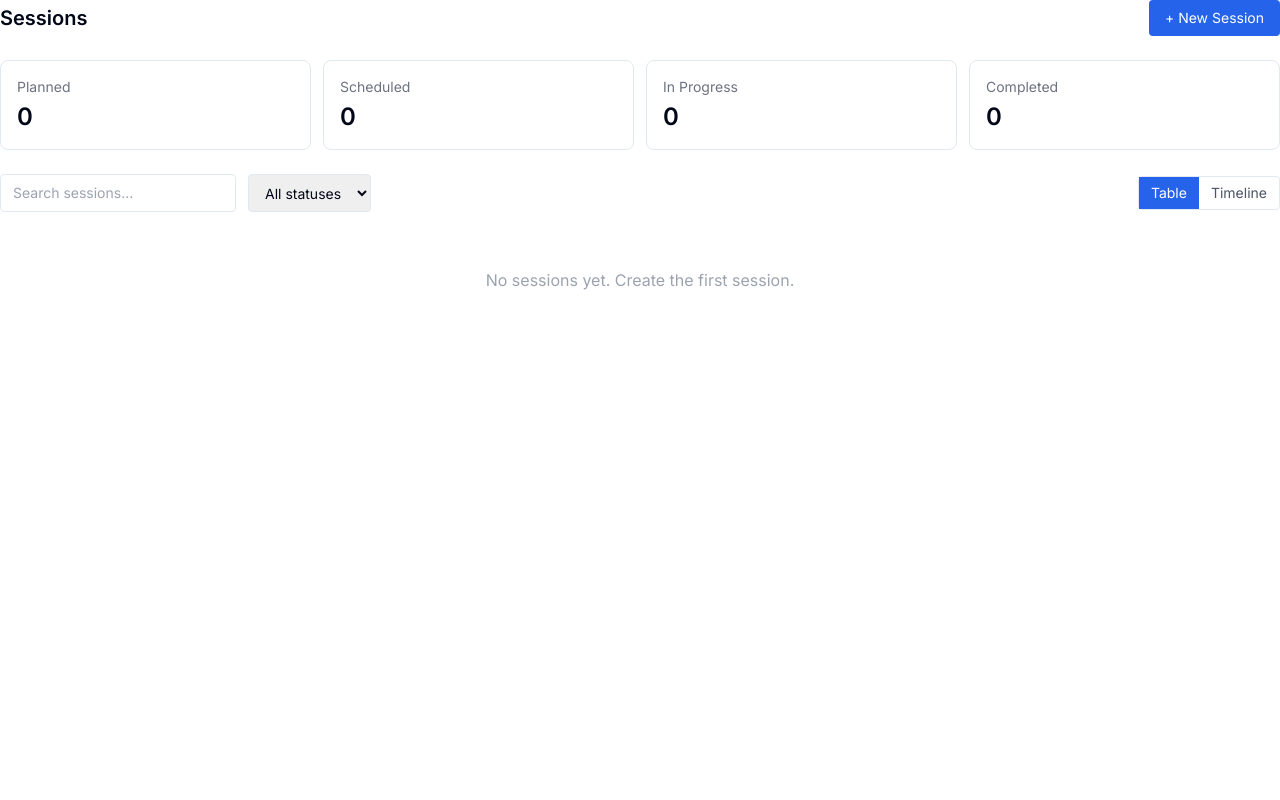
Scenario: TrainingSessionCenter › shows create dialog when create button clicked
Step 1. Click the button with test id "btn-create-session" → (1214, 18), box [1149,0,1279,36]
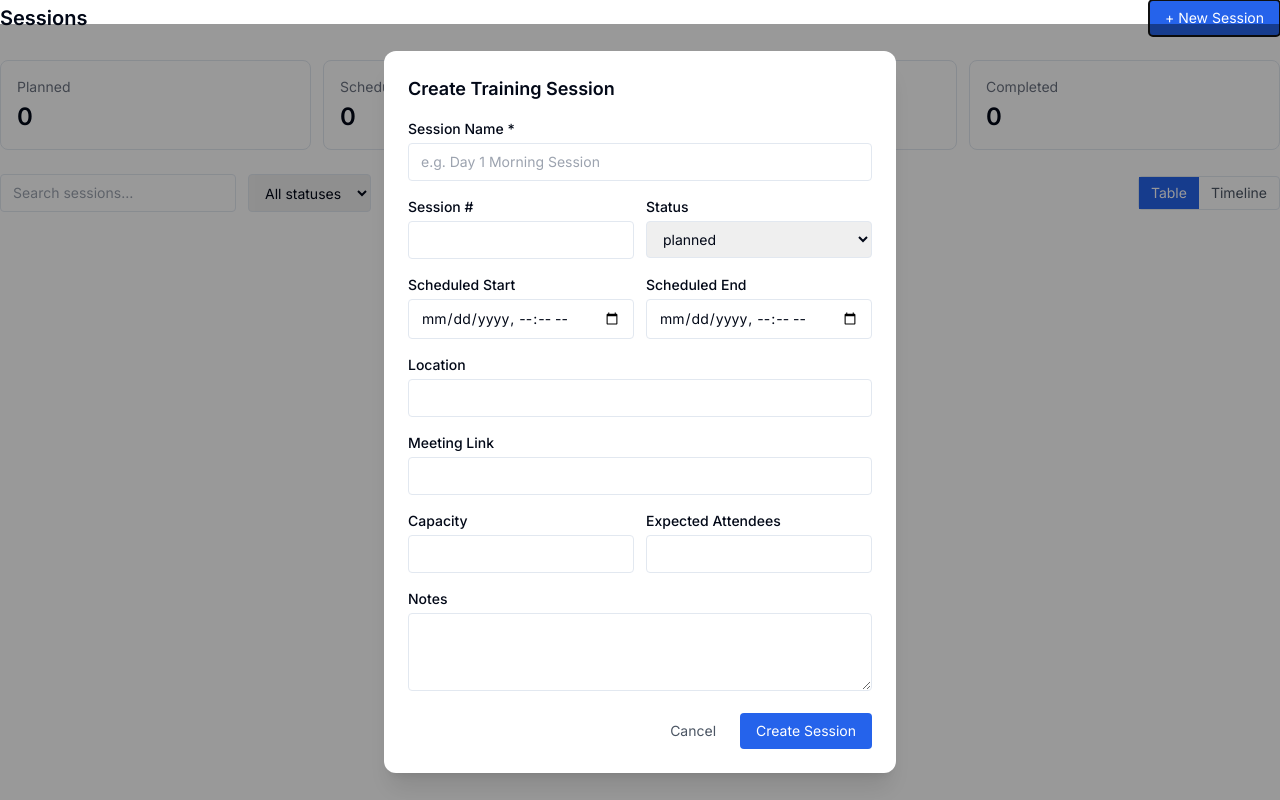
Expected: the element with test id "create-session-dialog" is shown
